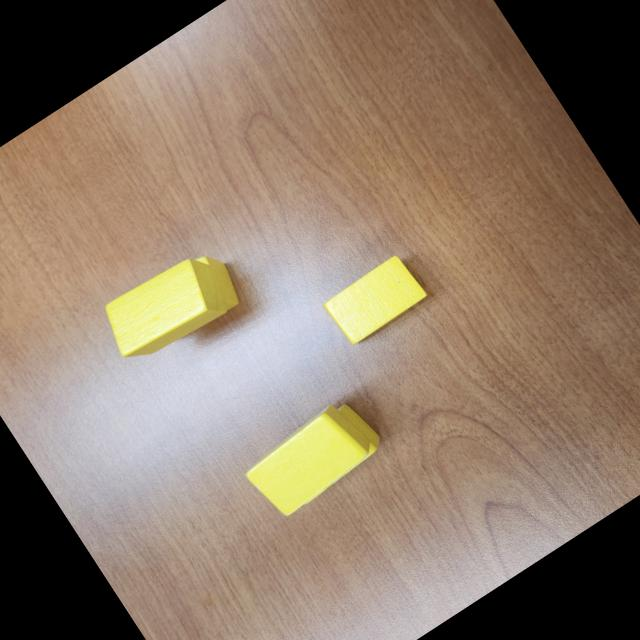yellow: (91, 244, 236, 374), (237, 395, 381, 523), (268, 396, 390, 506), (138, 245, 250, 348), (318, 250, 429, 348)
